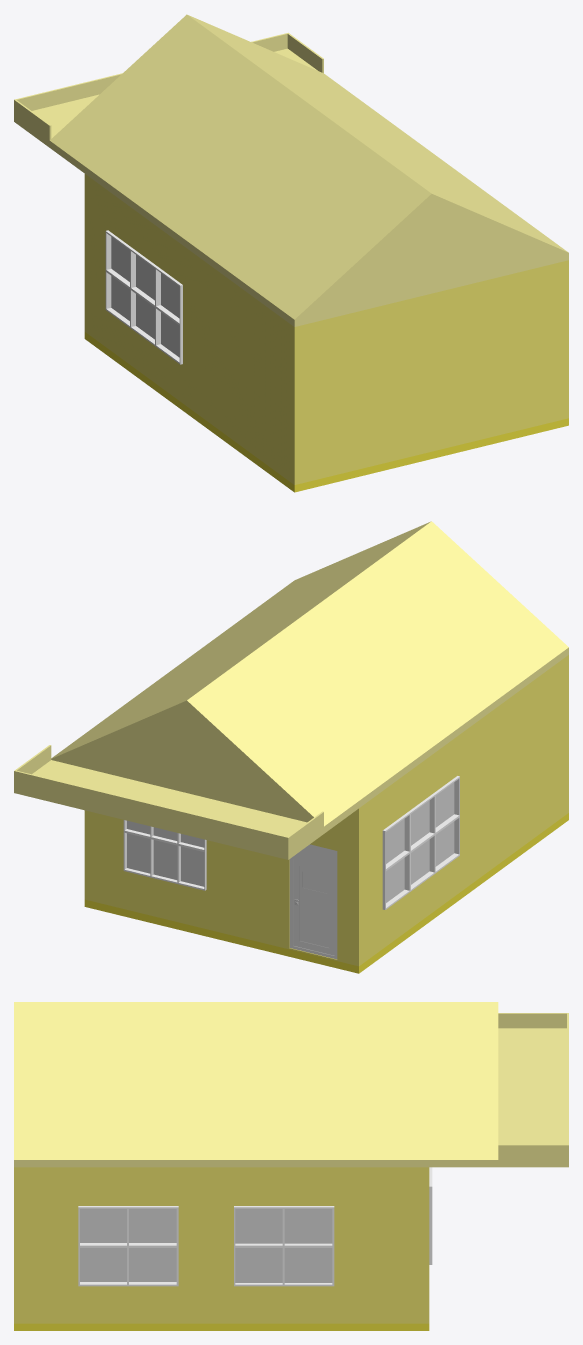
Rendered from House_10.fbx.
3 renders of one model, top to bottom at view 1: azimuth 30°, elevation 25°; view 2: azimuth 150°, elevation 25°; view 3: azimuth 270°, elevation 25°, orthographic.
Parts seen in each view (by area): view 1: House_10_Body, House_10_Window; view 2: House_10_Body, Hoouse_10_Door, House_10_Window, House_10_Window.003; view 3: House_10_Body, House_10_Window.002, House_10_Window.001.
Part boxes in pixels (left/top/right/bottom): House_10_Body: left=14, top=14, right=568, bottom=492; House_10_Window: left=111, top=237, right=179, bottom=357; House_10_Body: left=14, top=521, right=568, bottom=973; Hoouse_10_Door: left=289, top=844, right=337, bottom=959; House_10_Window: left=386, top=782, right=454, bottom=902; House_10_Window.003: left=127, top=820, right=204, bottom=886; House_10_Body: left=14, top=1002, right=568, bottom=1330; House_10_Window.002: left=235, top=1209, right=332, bottom=1282; House_10_Window.001: left=80, top=1209, right=176, bottom=1281.
Size of the model in its own units: 597 by 541 by 1036.
